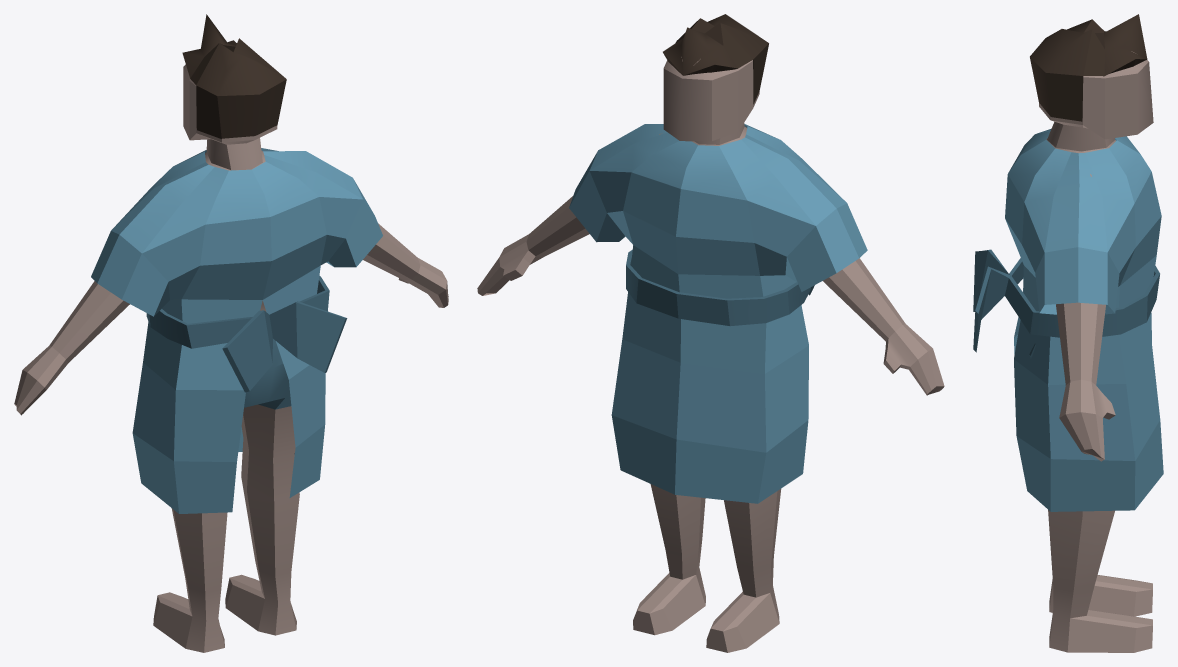
Rendered from player_low.fbx.
3 views of the same model, side by side, from view 1: azimuth 30°, elevation 25°; view 2: azimuth 150°, elevation 25°; view 3: azimuth 270°, elevation 25° (orthographic). The views are drawn at different scales.
Visible parts, largest first — view 1: polySurface1, pCube1, polySurface3, polySurface2; view 2: polySurface1, pCube1, polySurface3, polySurface2; view 3: polySurface1, pCube1, polySurface2, polySurface3.
Boxes of the visible parts, bbox=[...] form: polySurface1: bbox=[91, 148, 382, 513]; pCube1: bbox=[14, 64, 448, 652]; polySurface3: bbox=[146, 275, 347, 392]; polySurface2: bbox=[182, 14, 286, 138]; polySurface1: bbox=[569, 124, 867, 503]; pCube1: bbox=[477, 57, 944, 652]; polySurface3: bbox=[626, 250, 814, 326]; polySurface2: bbox=[663, 14, 768, 104]; polySurface1: bbox=[1005, 128, 1163, 511]; pCube1: bbox=[1029, 51, 1153, 652]; polySurface2: bbox=[1030, 14, 1147, 121]; polySurface3: bbox=[973, 249, 1159, 352].
Size of the model in its own units: 1.51 by 1.93 by 0.5462.
